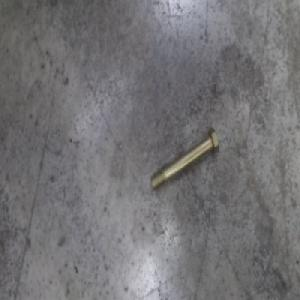Bolt: (148, 125, 219, 192)
